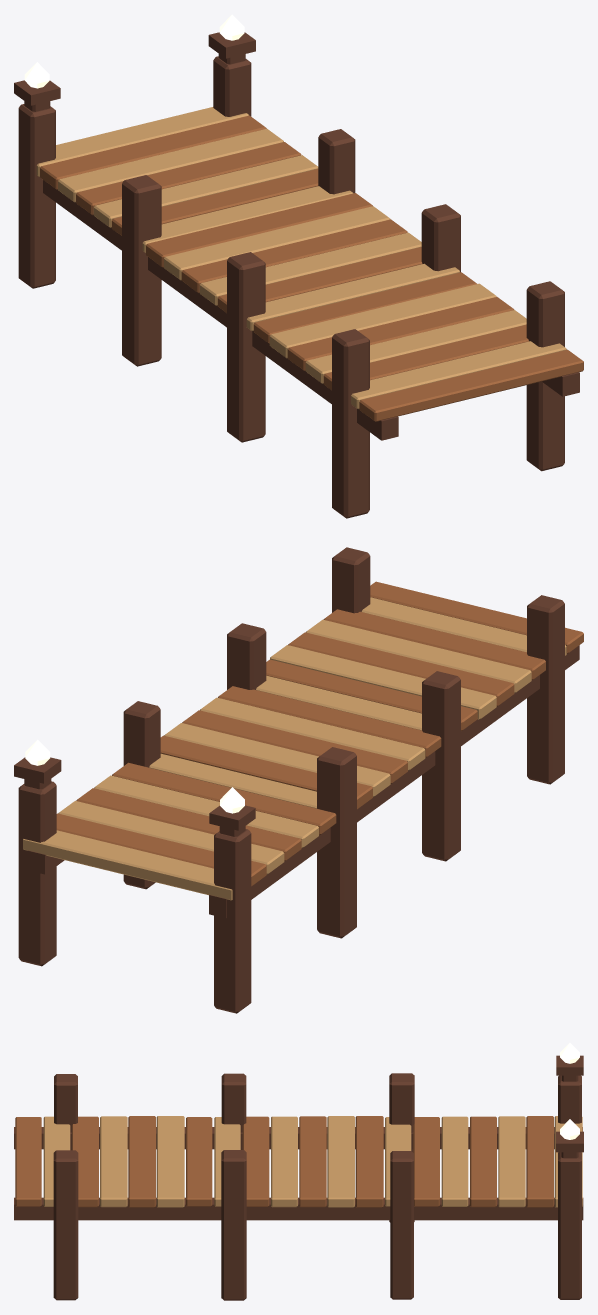
Rendered from Dock.fbx.
The picture shows the model from 3 angles, top to bottom: view 1: azimuth 30°, elevation 25°; view 2: azimuth 150°, elevation 25°; view 3: azimuth 270°, elevation 25°; orthographic projection. The views are drawn at different scales.
Parts seen in each view (by area): view 1: Dock; view 2: Dock; view 3: Dock.
Boxes of the visible parts, x1,y1,x2,y2 form: Dock: [14, 14, 583, 518]; Dock: [14, 547, 583, 1013]; Dock: [14, 1043, 583, 1300].
Bounding box in the file's own units: 1.61 × 1.52 × 4.41.
